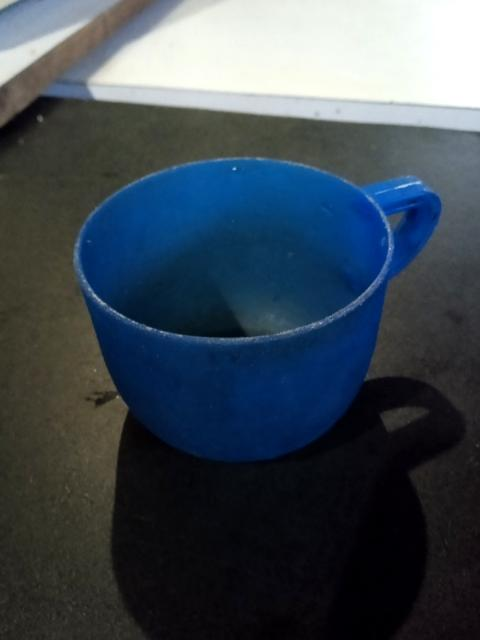Cup: (75, 159, 440, 460)
